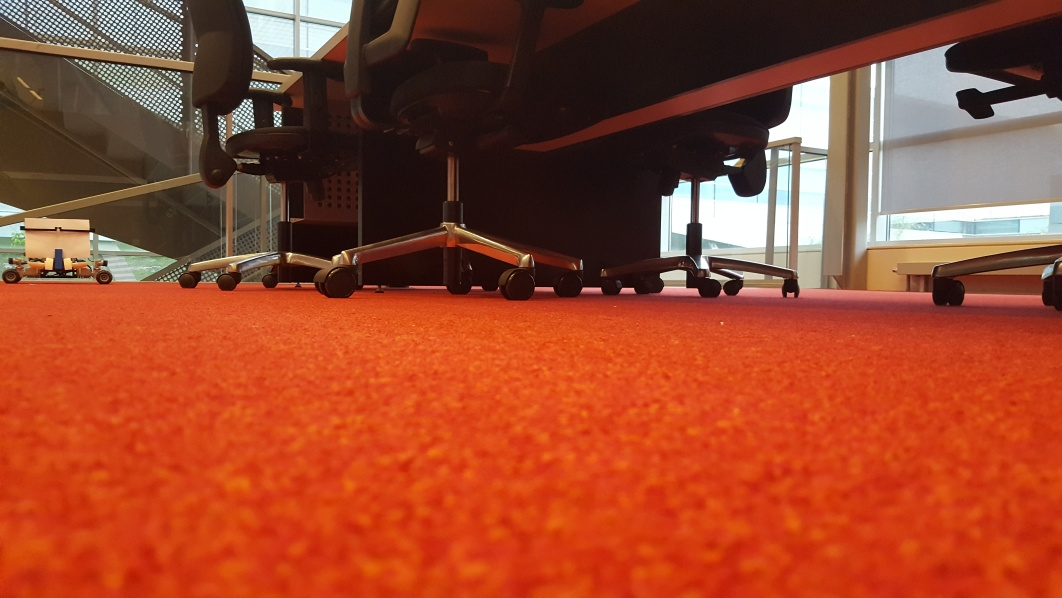car: (2, 216, 113, 289)
